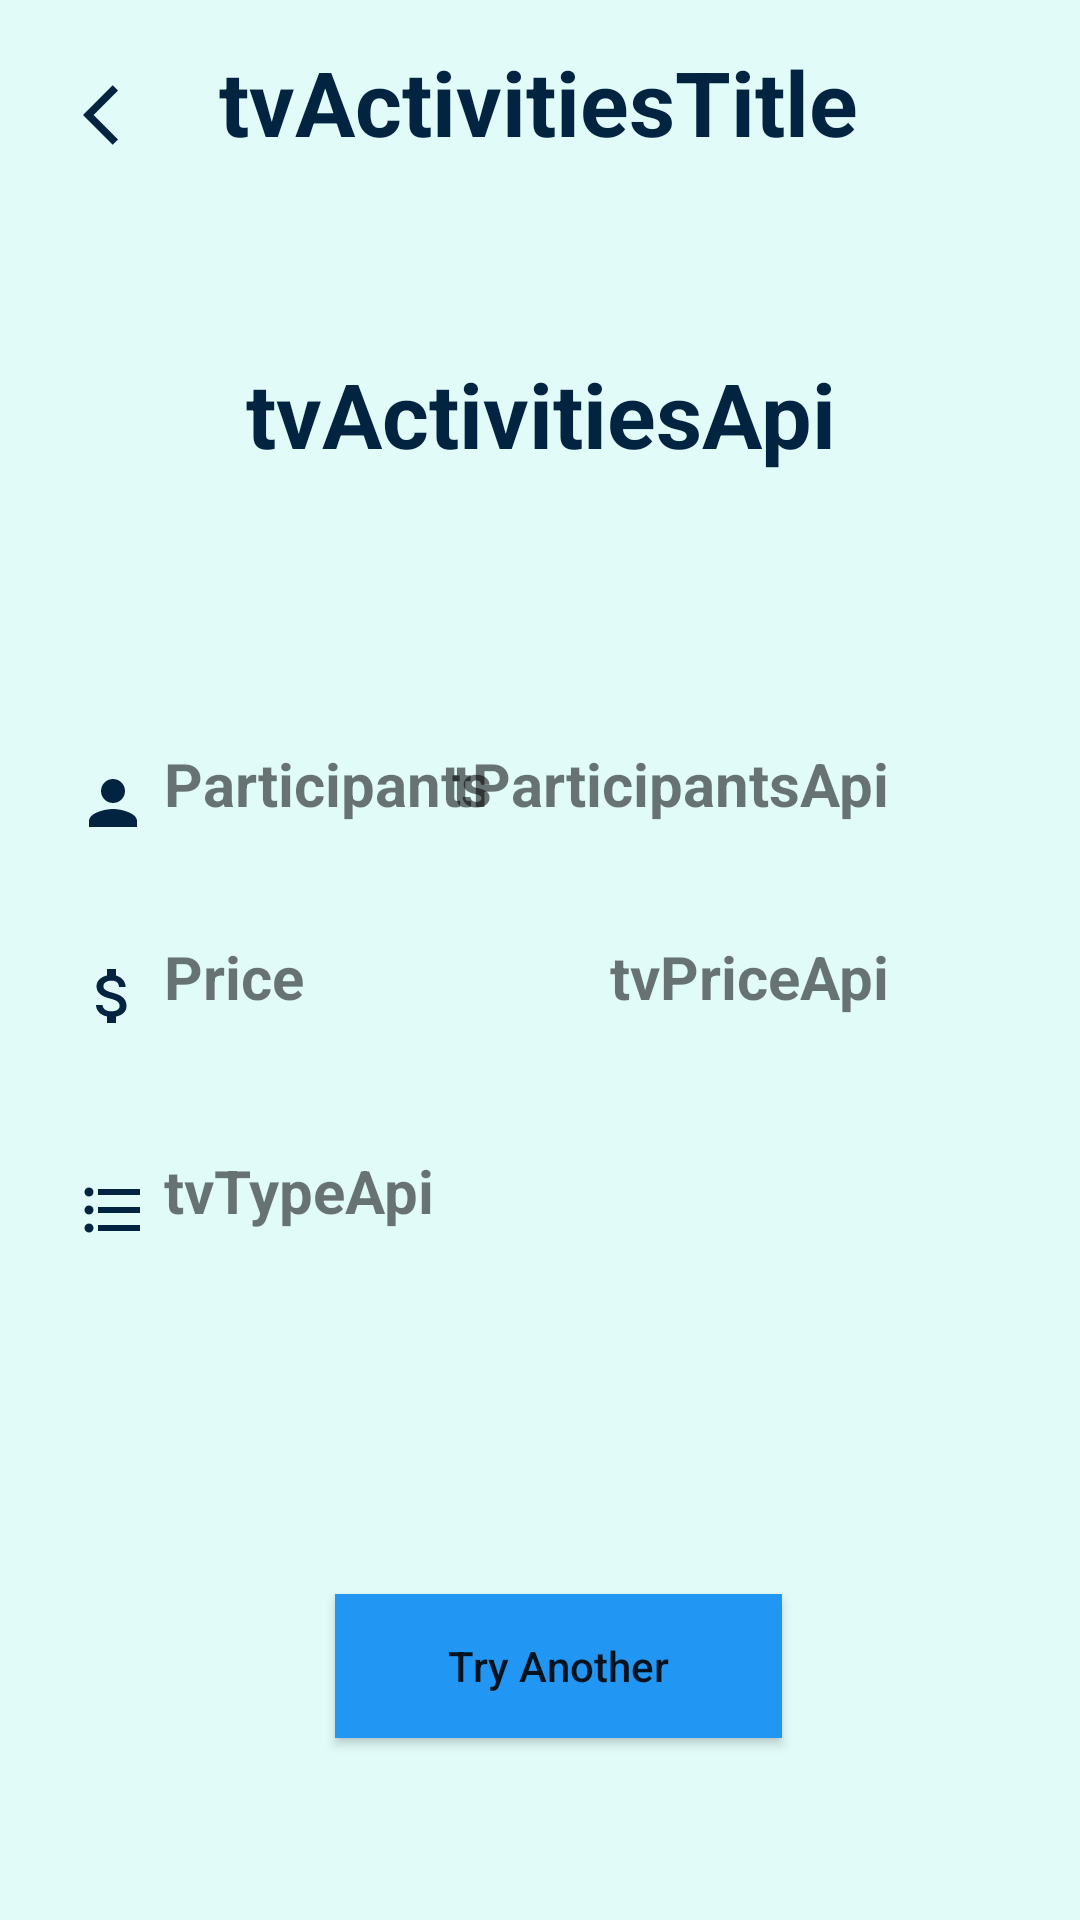

Icons on this 1080 × 1920 Android screen, each with its box as (x1, y1, x2, y2):
Back: (83, 85, 118, 145)
